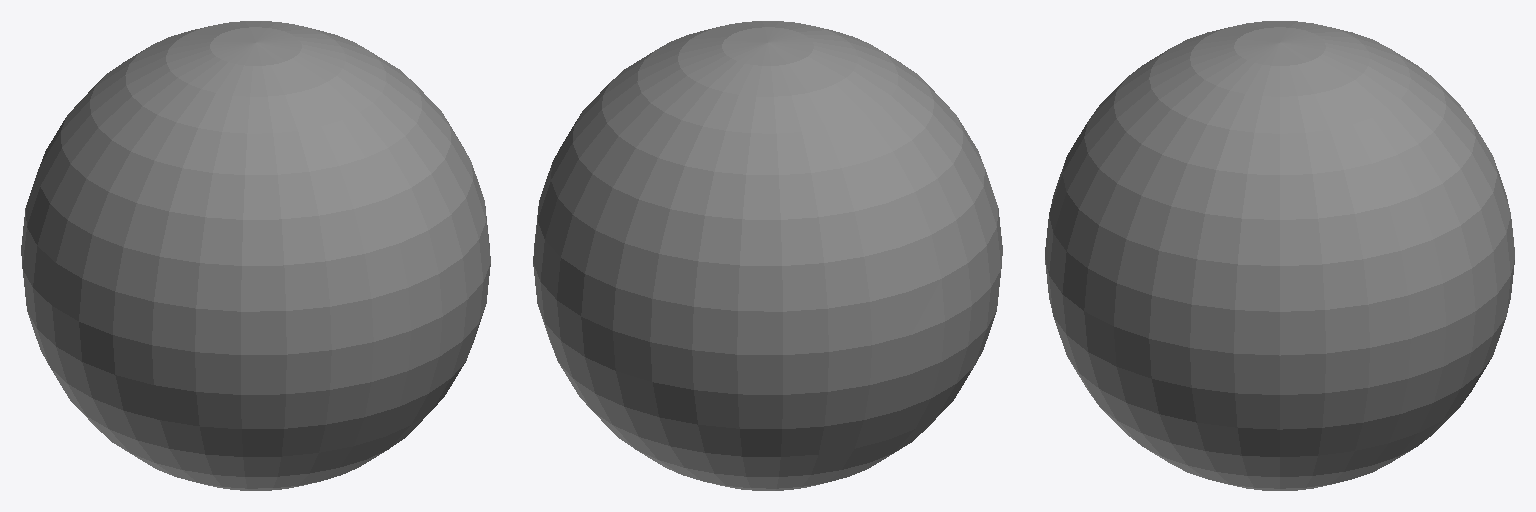
File: Ball.obj
3 views of the same model, side by side, from view 1: azimuth 30°, elevation 25°; view 2: azimuth 150°, elevation 25°; view 3: azimuth 270°, elevation 25° (orthographic).
Parts seen in each view (by area): view 1: Sphere001; view 2: Sphere001; view 3: Sphere001.
Part boxes in pixels (bbox=[...]): Sphere001: bbox=[21, 21, 490, 490]; Sphere001: bbox=[533, 21, 1002, 490]; Sphere001: bbox=[1045, 21, 1514, 490].
Size of the model in its own units: 6.58 by 6.58 by 6.58.